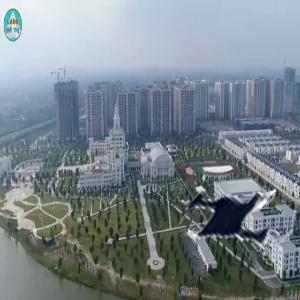drone: (163, 144, 300, 282)
